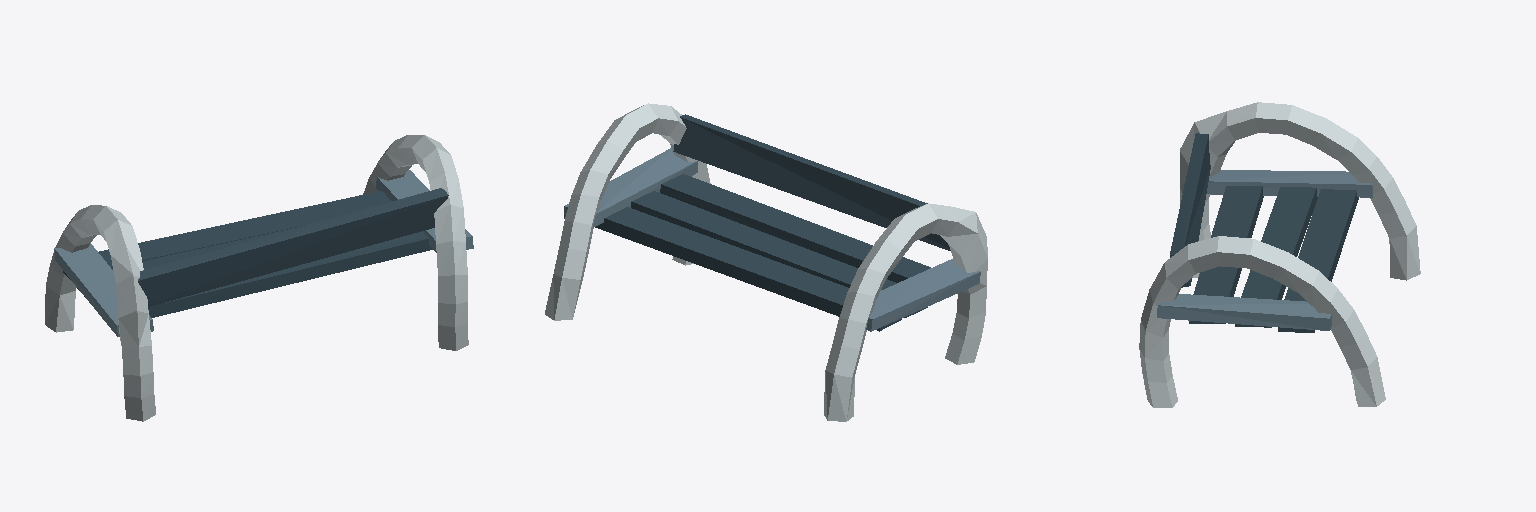
3 renders of one model, left to right at view 1: azimuth 30°, elevation 25°; view 2: azimuth 150°, elevation 25°; view 3: azimuth 270°, elevation 25°, orthographic.
Parts seen in each view (by area): view 1: group[number redacted], group[number redacted], group[number redacted], group[number redacted], group[number redacted], group[number redacted], group[number redacted], group[number redacted]; view 2: group[number redacted], group[number redacted], group[number redacted], group[number redacted], group[number redacted], group[number redacted], group[number redacted], group[number redacted]; view 3: group[number redacted], group[number redacted], group[number redacted], group[number redacted], group[number redacted], group[number redacted], group[number redacted], group[number redacted].
Boxes of the visible parts, x1,y1,x2,y2 form: group[number redacted]: [138, 188, 448, 306]; group[number redacted]: [45, 205, 155, 421]; group[number redacted]: [363, 135, 468, 350]; group[number redacted]: [148, 231, 432, 317]; group[number redacted]: [63, 191, 391, 279]; group[number redacted]: [54, 243, 153, 336]; group[number redacted]: [376, 170, 473, 252]; group[number redacted]: [77, 226, 301, 296]; group[number redacted]: [824, 203, 987, 421]; group[number redacted]: [673, 114, 950, 250]; group[number redacted]: [545, 103, 710, 320]; group[number redacted]: [595, 207, 901, 331]; group[number redacted]: [660, 174, 930, 282]; group[number redacted]: [631, 191, 927, 317]; group[number redacted]: [866, 259, 980, 331]; group[number redacted]: [564, 148, 697, 227]; group[number redacted]: [1139, 236, 1385, 407]; group[number redacted]: [1180, 102, 1420, 280]; group[number redacted]: [1157, 294, 1331, 330]; group[number redacted]: [1278, 189, 1358, 332]; group[number redacted]: [1235, 187, 1317, 327]; group[number redacted]: [1189, 186, 1263, 323]; group[number redacted]: [1207, 170, 1372, 197]; group[number redacted]: [1170, 133, 1210, 287].
Size of the model in its own units: 0.8971 by 0.4485 by 0.6114.